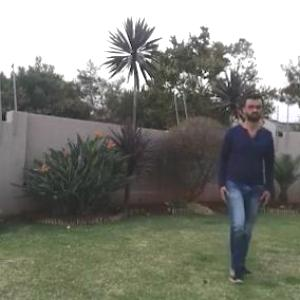follow: (220, 96, 267, 263)
